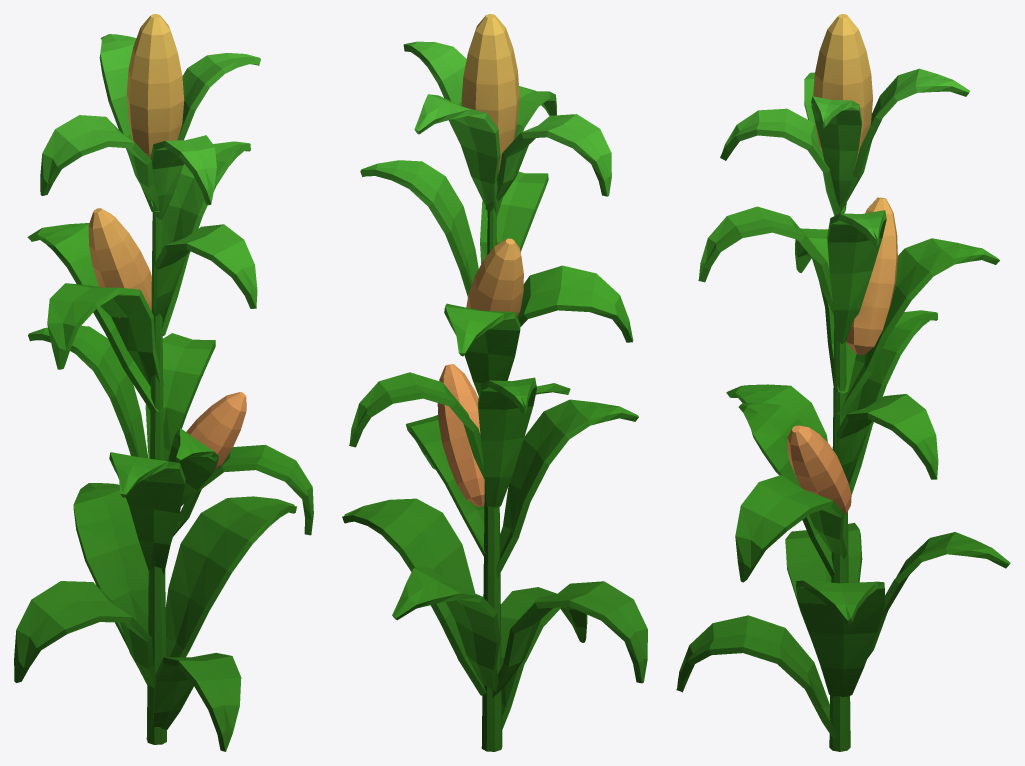
File: crop_corn_stage3.glb
The picture shows the model from 3 angles, left to right: view 1: azimuth 30°, elevation 25°; view 2: azimuth 150°, elevation 25°; view 3: azimuth 270°, elevation 25°; orthographic projection.
Parts seen in each view (by area): view 1: crop_corn_stage3; view 2: crop_corn_stage3; view 3: crop_corn_stage3.
Boxes of the visible parts, <box> form: crop_corn_stage3: <box>14,14,313,751</box>; crop_corn_stage3: <box>342,14,647,751</box>; crop_corn_stage3: <box>676,14,1010,751</box>.
Bounding box in the file's own units: 0.5633 × 1.35 × 0.5595.
Materials: 1 (1 with a texture image).
